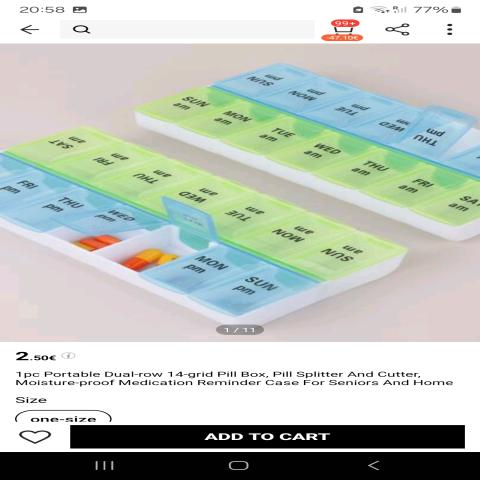PillBox: (5, 123, 408, 332), (113, 58, 480, 243)
